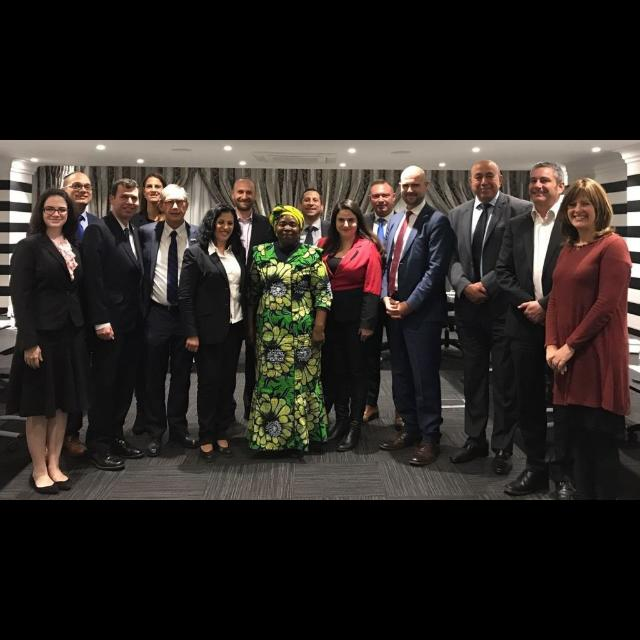head: (566, 178, 606, 230), (529, 162, 567, 204), (398, 164, 432, 206), (470, 160, 504, 200), (109, 178, 141, 220), (156, 184, 190, 222), (41, 190, 71, 228), (62, 172, 94, 206), (209, 204, 237, 242), (276, 206, 304, 244), (368, 180, 397, 216), (335, 198, 361, 238), (230, 179, 258, 213), (142, 173, 168, 203), (299, 189, 325, 217)
person: (445, 158, 537, 476), (2, 187, 88, 498), (24, 169, 112, 463), (241, 203, 337, 464), (378, 164, 457, 468), (175, 201, 258, 463), (134, 181, 212, 457), (78, 176, 148, 474), (315, 196, 389, 454), (348, 178, 422, 434), (212, 178, 280, 426), (124, 168, 186, 438), (284, 187, 342, 416)
